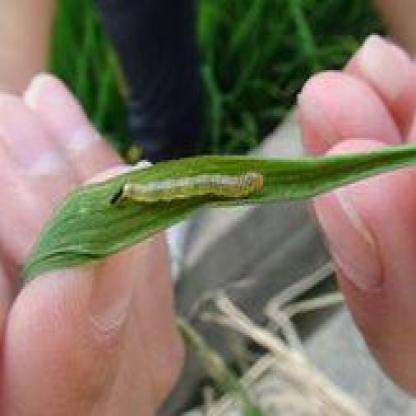leaf-folder: (102, 162, 284, 222)
